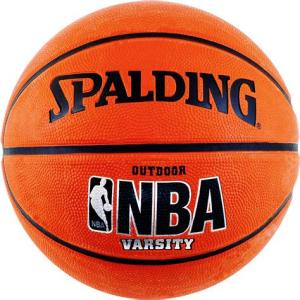Basket: (0, 0, 299, 298)
